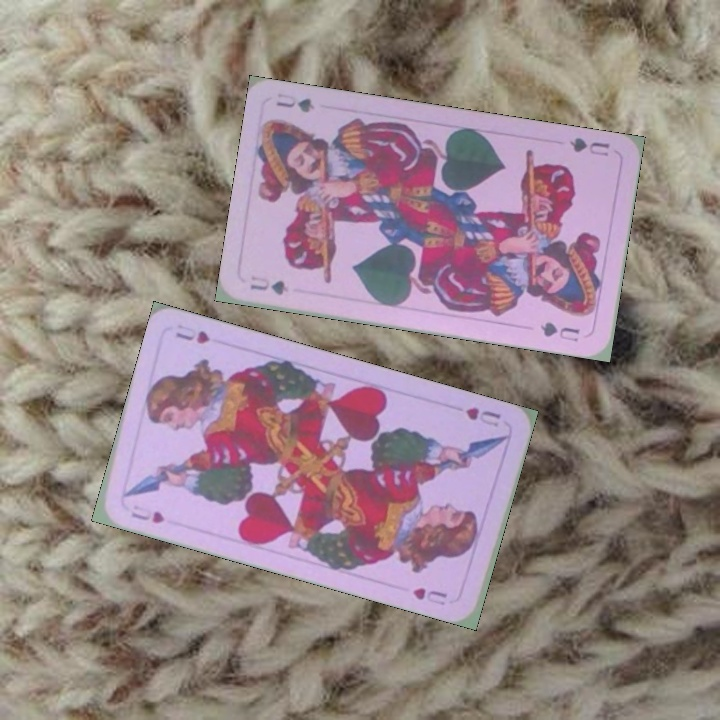GU: (565, 133, 612, 159), (246, 272, 291, 298)
HU: (462, 403, 503, 430), (127, 501, 167, 527)
